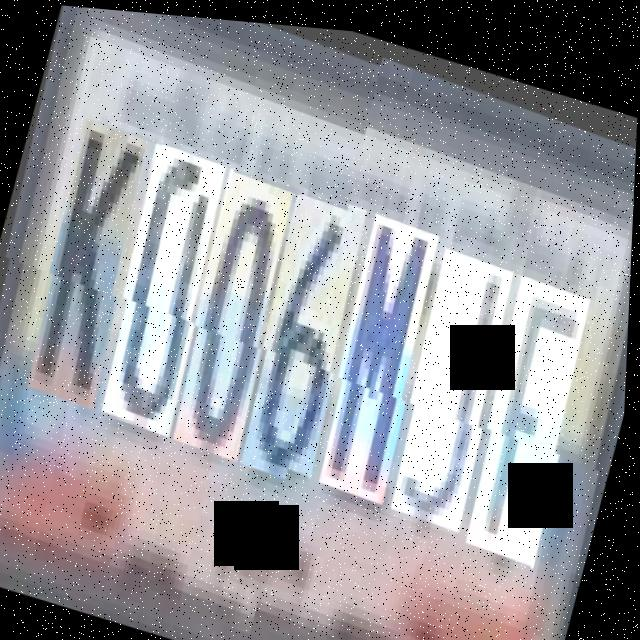0: (95, 137, 238, 434)
6: (234, 183, 378, 480)
F: (459, 265, 602, 563)
J: (384, 241, 525, 530)
K: (23, 114, 161, 410)
M: (312, 209, 451, 504)
O: (168, 161, 306, 457)
